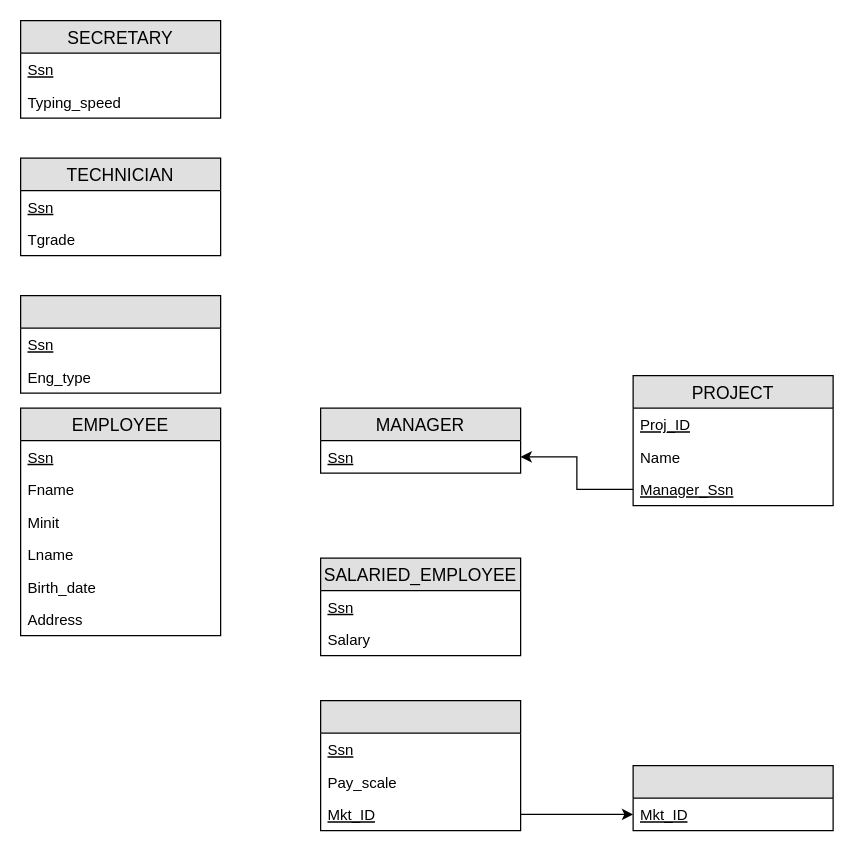
Some shapes in this 854 by 851 pixel diagram are drawn without their labels. The box of each missing label's shape, as (x1, y1, x2, y2) in pixels:
ENGINEER: (19, 294, 221, 393)
HOURLY_EMPLOYEE: (319, 699, 521, 831)
TRADE_UNION: (632, 764, 833, 831)
